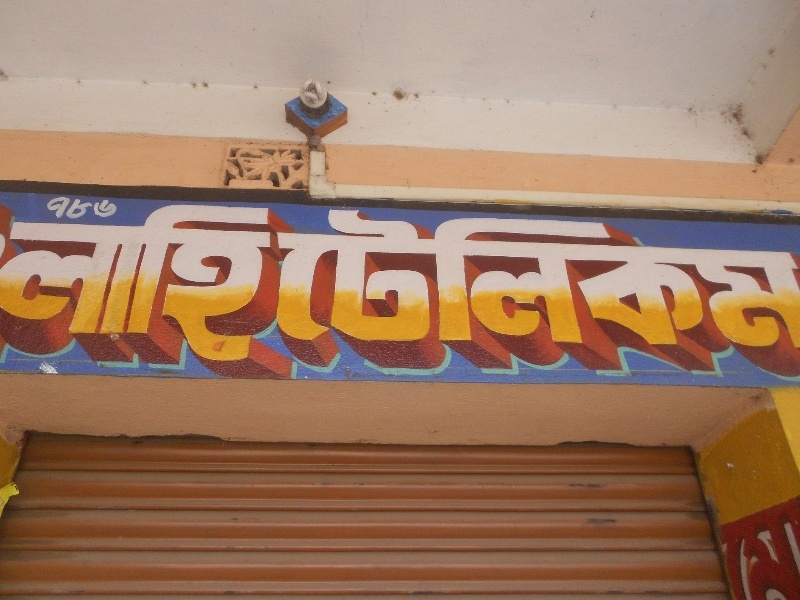text: (1, 193, 16, 377), (17, 193, 32, 377), (33, 193, 48, 377), (49, 193, 64, 377), (65, 193, 80, 377), (81, 193, 96, 377), (97, 193, 112, 377), (113, 193, 128, 377), (129, 193, 144, 377), (145, 193, 160, 377), (161, 193, 176, 377), (177, 193, 192, 377), (193, 193, 208, 377), (209, 193, 224, 377), (225, 193, 240, 377), (241, 193, 256, 377), (257, 193, 272, 377), (273, 193, 288, 377), (289, 193, 304, 377), (305, 193, 320, 377), (321, 193, 336, 377), (337, 193, 352, 377), (353, 193, 368, 377), (369, 193, 384, 377), (385, 193, 400, 377), (401, 193, 416, 377), (417, 193, 432, 377), (433, 193, 448, 377), (449, 193, 464, 377), (465, 193, 480, 377), (481, 193, 496, 377), (497, 193, 512, 377), (513, 193, 528, 377), (529, 193, 544, 377), (545, 193, 560, 377), (561, 193, 576, 377), (577, 193, 592, 377), (593, 193, 608, 377), (609, 193, 624, 377), (625, 193, 640, 377), (641, 193, 656, 377), (657, 193, 672, 377), (673, 193, 688, 377), (689, 193, 704, 377), (705, 193, 720, 377), (721, 193, 736, 377), (737, 193, 752, 377), (753, 193, 768, 377), (769, 193, 784, 377), (785, 193, 800, 377), (737, 493, 752, 597), (753, 493, 768, 597), (769, 493, 784, 597), (722, 493, 736, 597), (785, 493, 799, 597), (49, 198, 64, 219), (65, 198, 80, 219), (81, 198, 96, 219), (97, 198, 112, 219), (113, 198, 114, 219)
